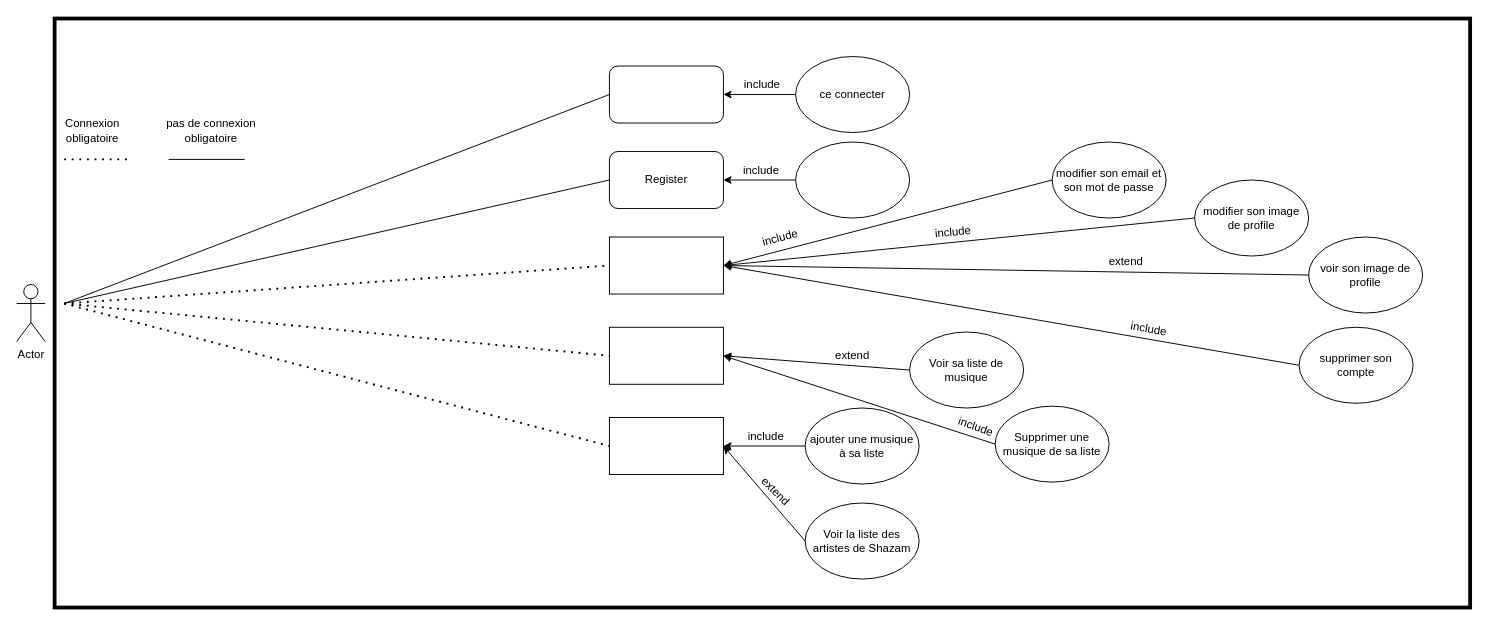
This 1489x625 diagram has some shape labels left out. The centre of each missing label's shape, as x and y in pixels:
créer un compte: the point at 852,179
Liste des artistes: the point at 665,446
Login: the point at 665,94
page de profile: the point at 665,265
sa liste de musique: the point at 665,355
